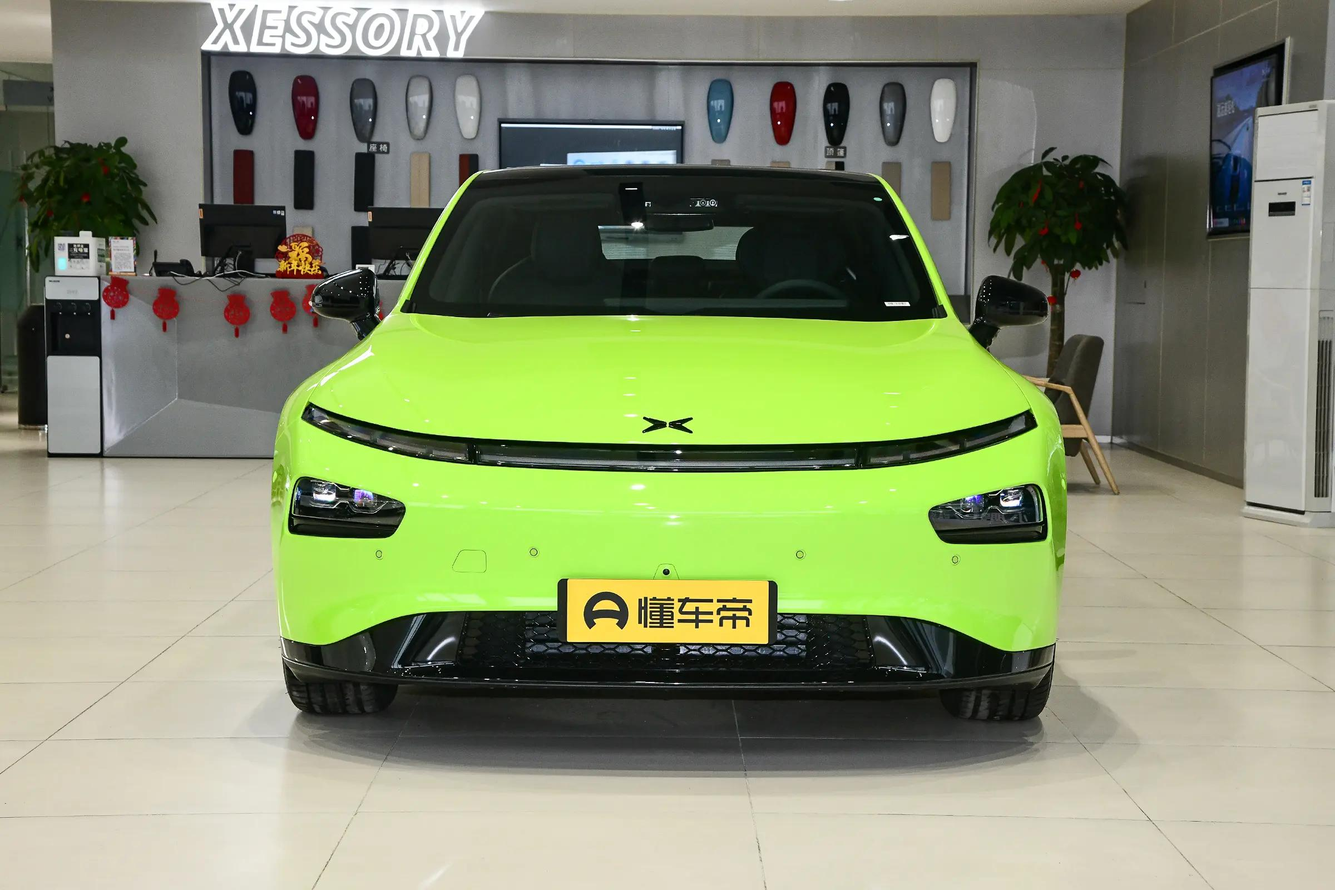XPeng Motors: (642, 416, 694, 433)
